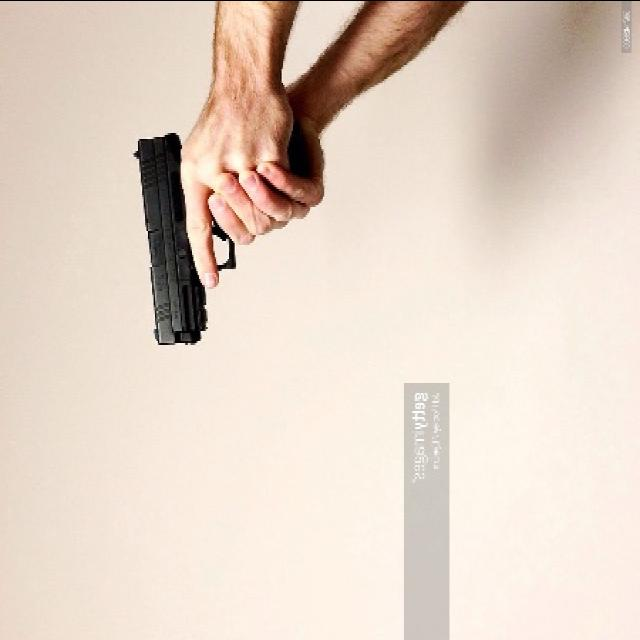handgun: (126, 135, 237, 345)
